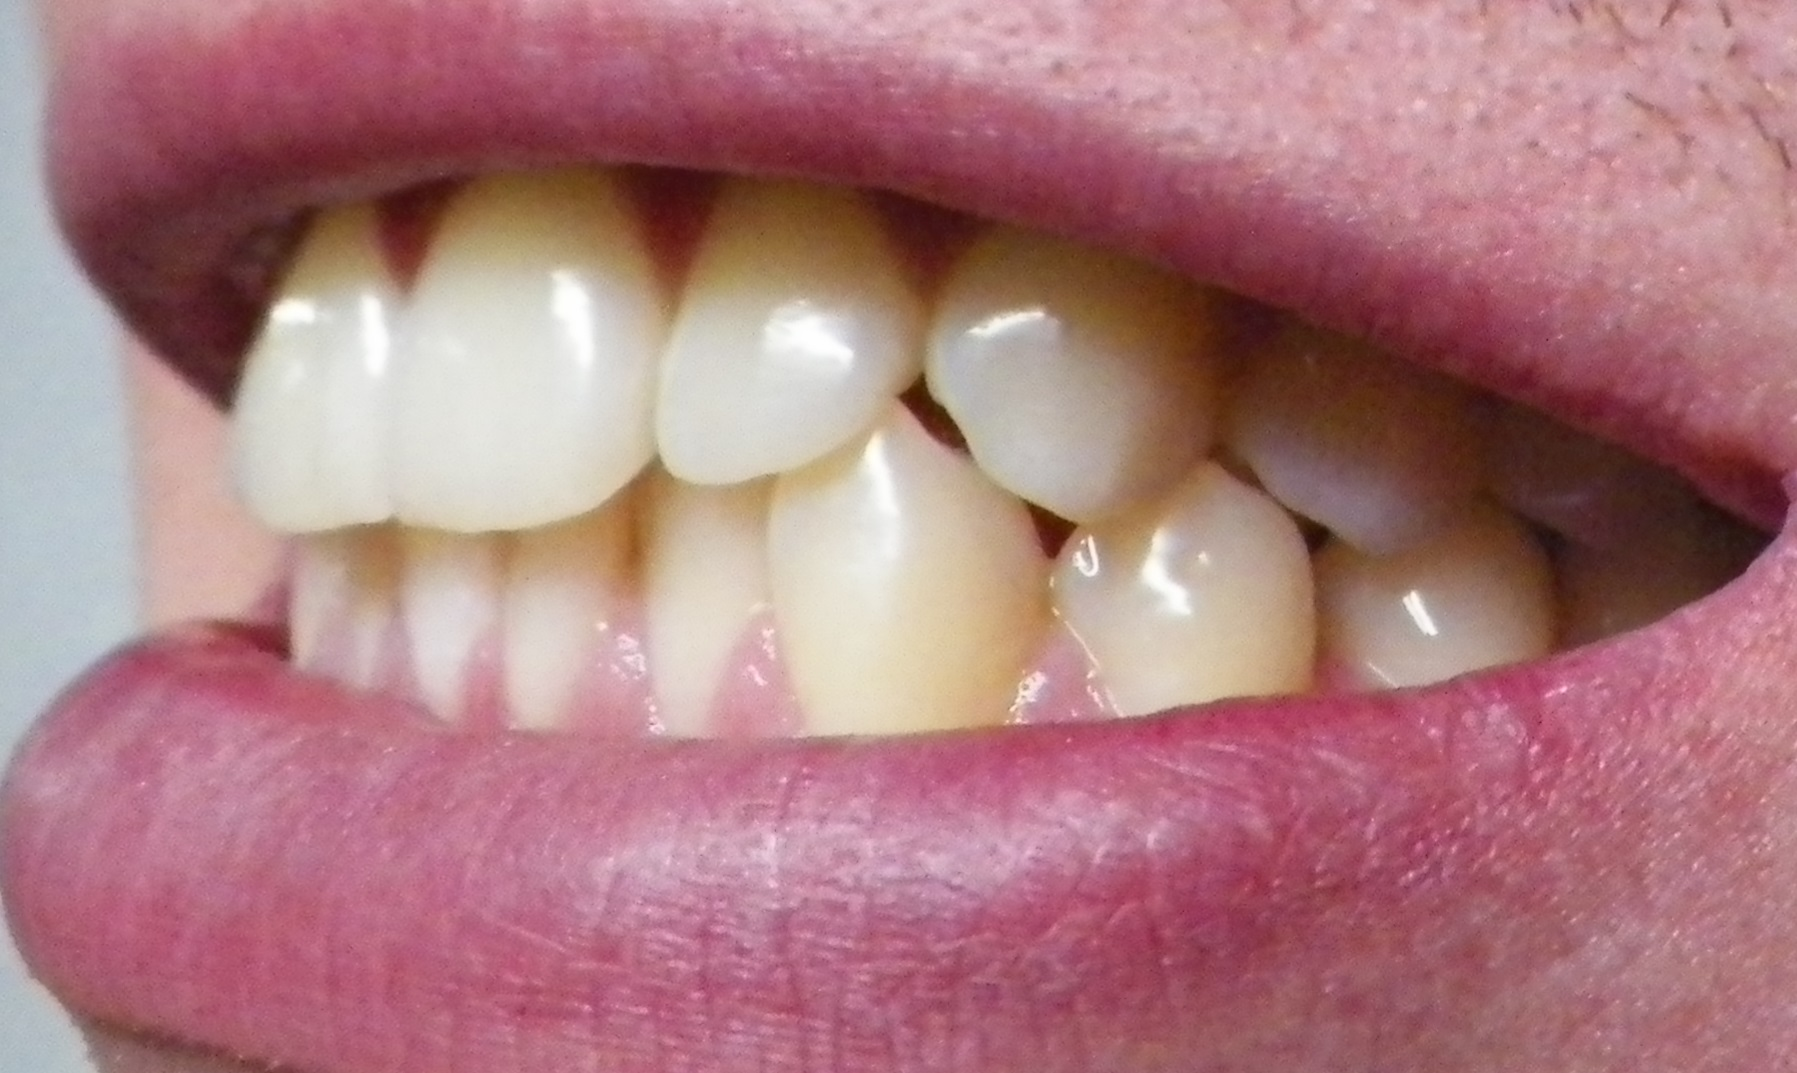boca: (217, 186, 1694, 729)
